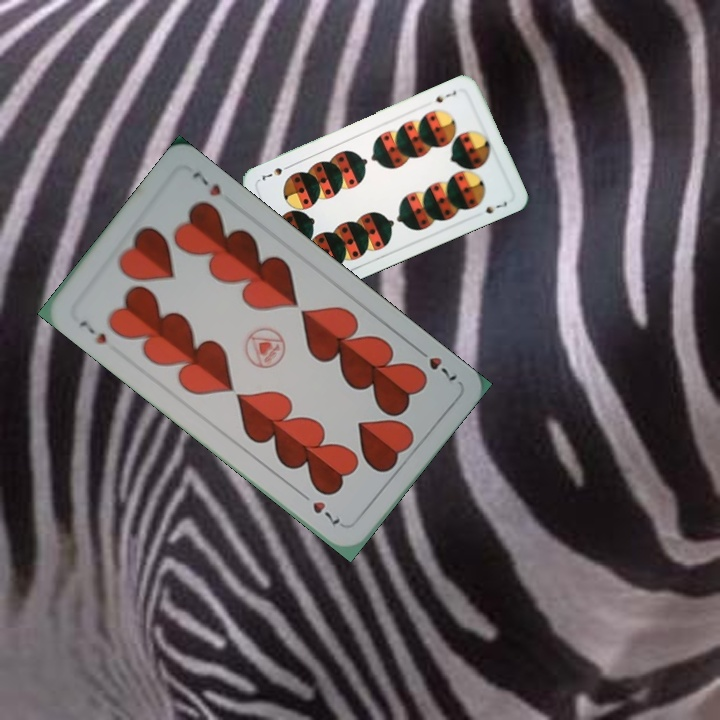H7: (411, 343, 460, 384), (75, 316, 109, 347)
S7: (432, 86, 459, 105)
